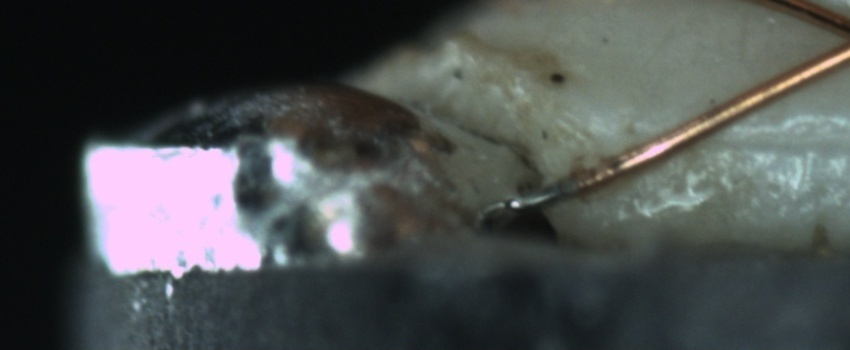CL: (826, 10, 850, 63)
DL: (697, 107, 848, 174)
TS: (495, 179, 576, 213)
